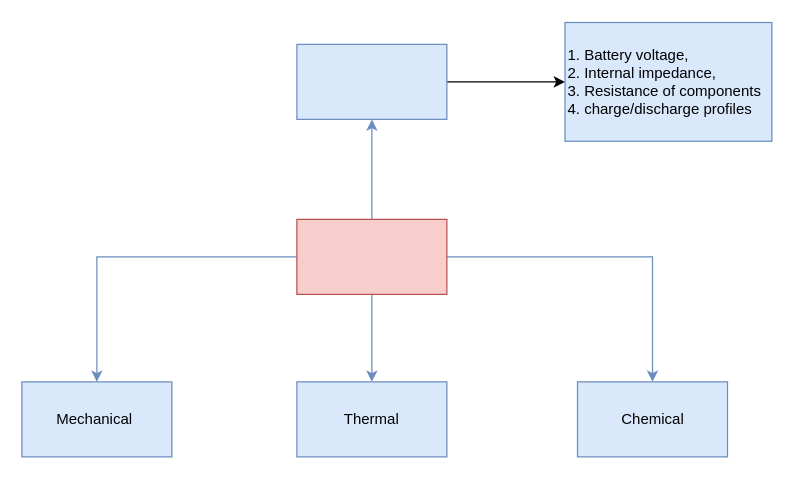
Some shapes in this 794 by 479 pixel diagram are drawn without their labels. Here are the shapes that lost their labels. From the top down, the box of each, then its label:
(296, 43, 447, 119): Electrical
(296, 218, 447, 294): Battery testing
